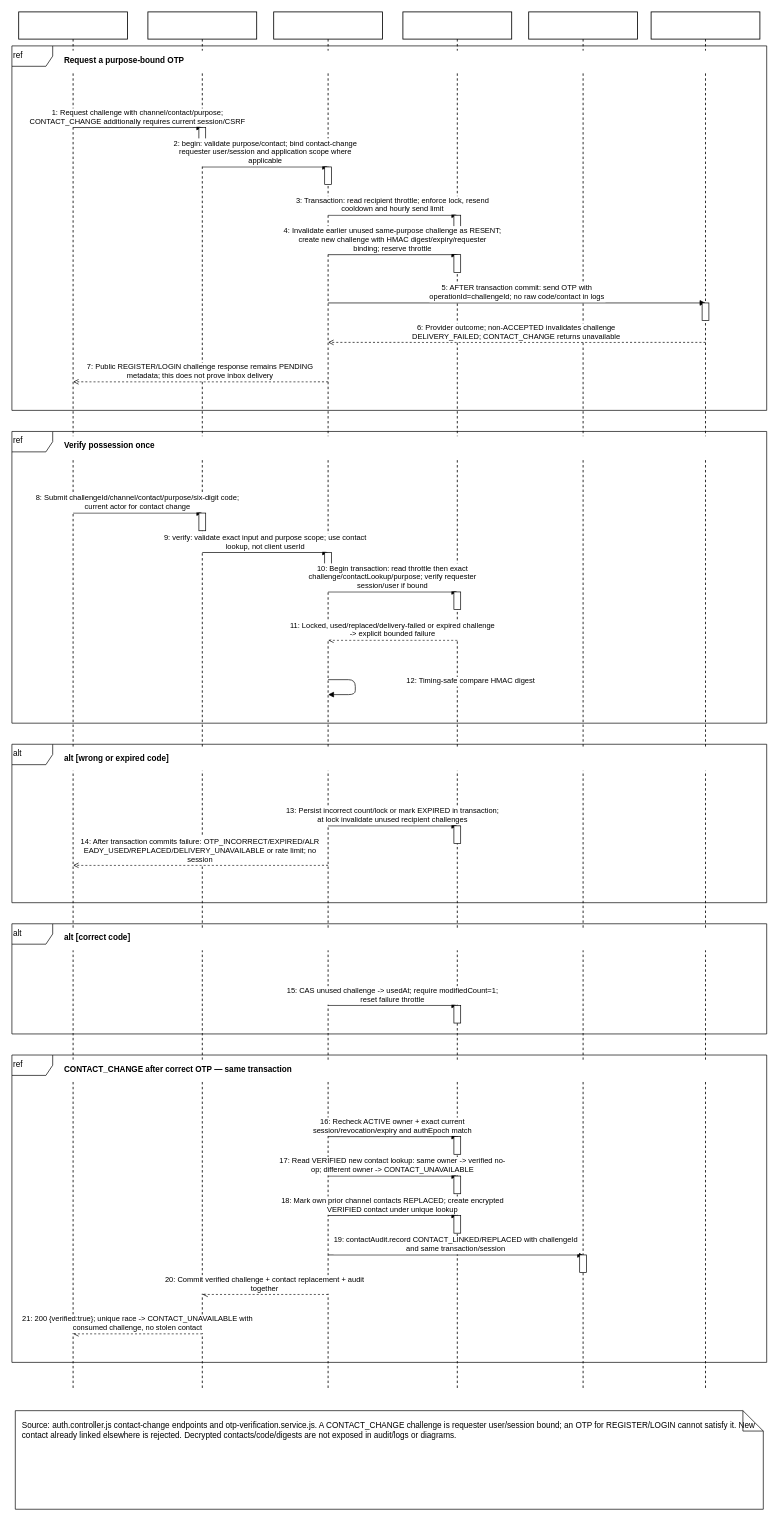
This 779x1522 diagram has some shape labels left out. The box of each missing label's shape, as (x1, y1, x2, y2) in pixels:
: AuthController: (147, 11, 257, 1390)
: ContactDelivery: (650, 11, 760, 1390)
: Identity MongoDB: (402, 11, 512, 1390)
: OtpService: (273, 11, 383, 1390)
: Verified-purpose handler / SessionService: (528, 11, 638, 1390)
Guest / account owner: (18, 11, 128, 1390)
